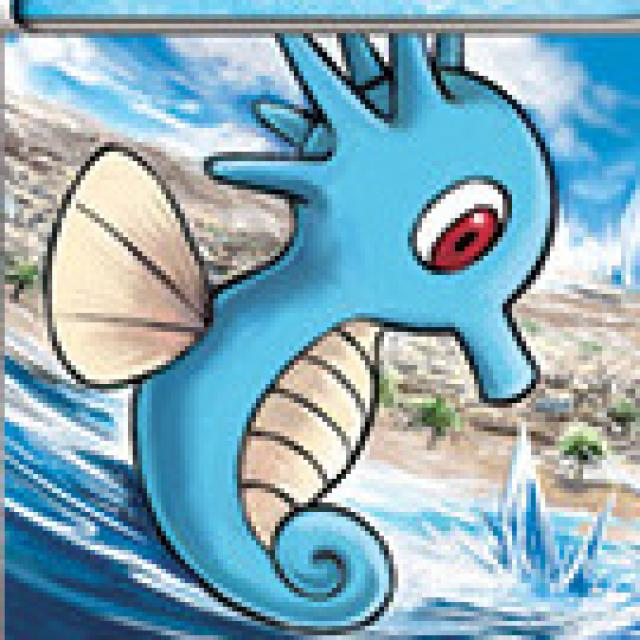Horsea: (38, 27, 563, 618)
